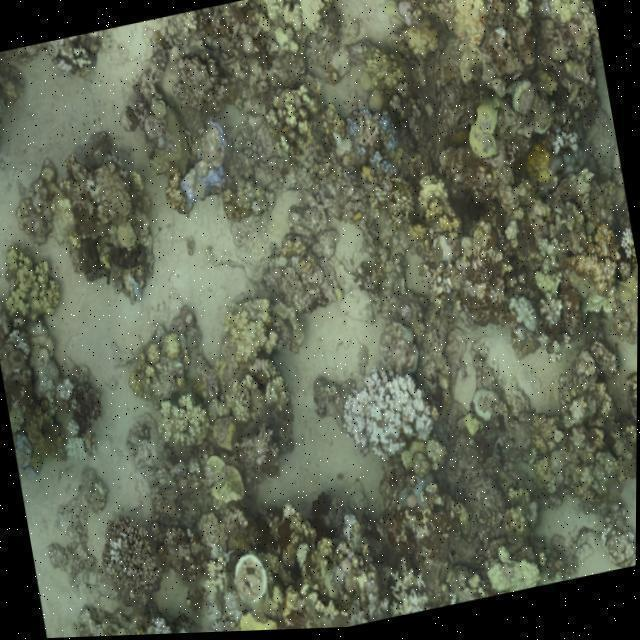Bleached Coral: (332, 368, 450, 481), (502, 289, 546, 345), (538, 284, 572, 337), (612, 212, 635, 272)
